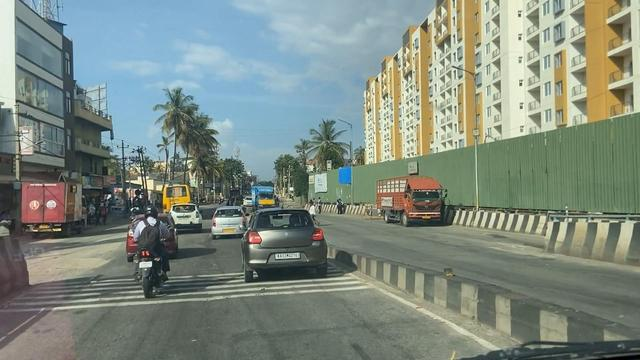HMV: (22, 180, 81, 228), (163, 186, 189, 212)
LMV: (242, 210, 324, 276), (133, 212, 166, 301), (211, 210, 247, 236), (172, 205, 203, 231)
UnsurfacedRoad: (27, 239, 113, 286)
